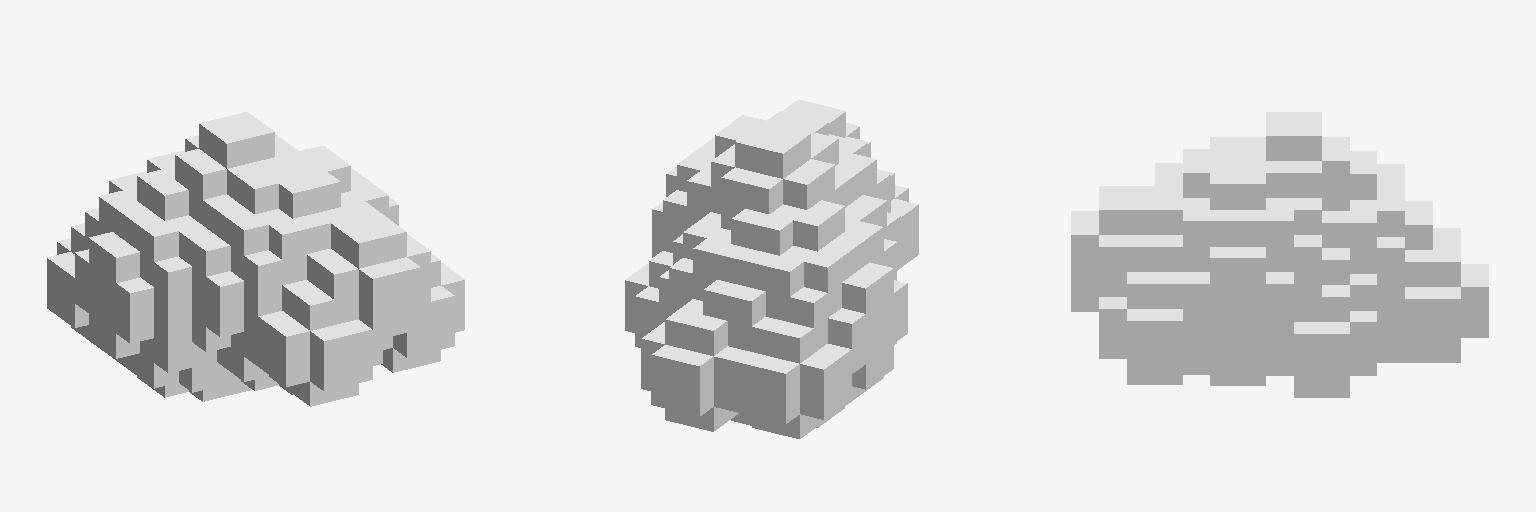
Rendered from Clouds.obj.
The picture shows the model from 3 angles: view 1: azimuth 30°, elevation 25°; view 2: azimuth 150°, elevation 25°; view 3: azimuth 270°, elevation 25°; orthographic projection.
Size of the model in its own units: 11 by 10 by 15.